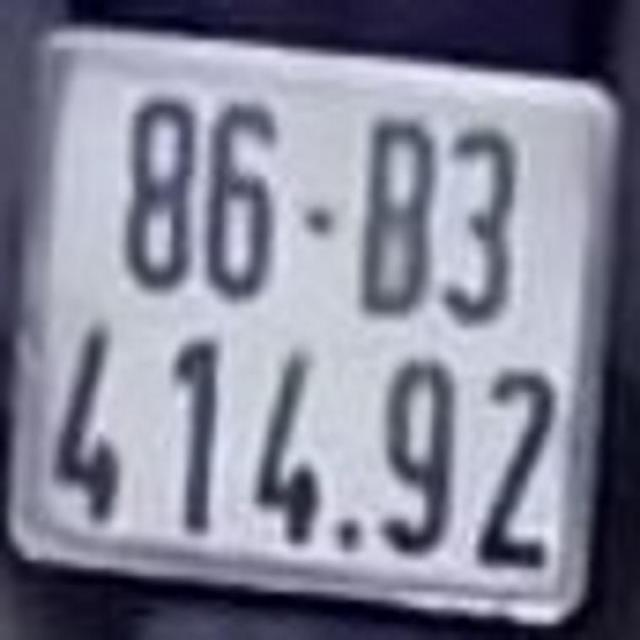1: (170, 314, 227, 536)
2: (477, 352, 560, 579)
3: (443, 118, 520, 324)
4: (251, 327, 328, 548), (57, 319, 122, 523)
6: (202, 91, 281, 304)
8: (120, 88, 196, 304)
9: (369, 338, 459, 562)
B: (363, 98, 434, 320)
